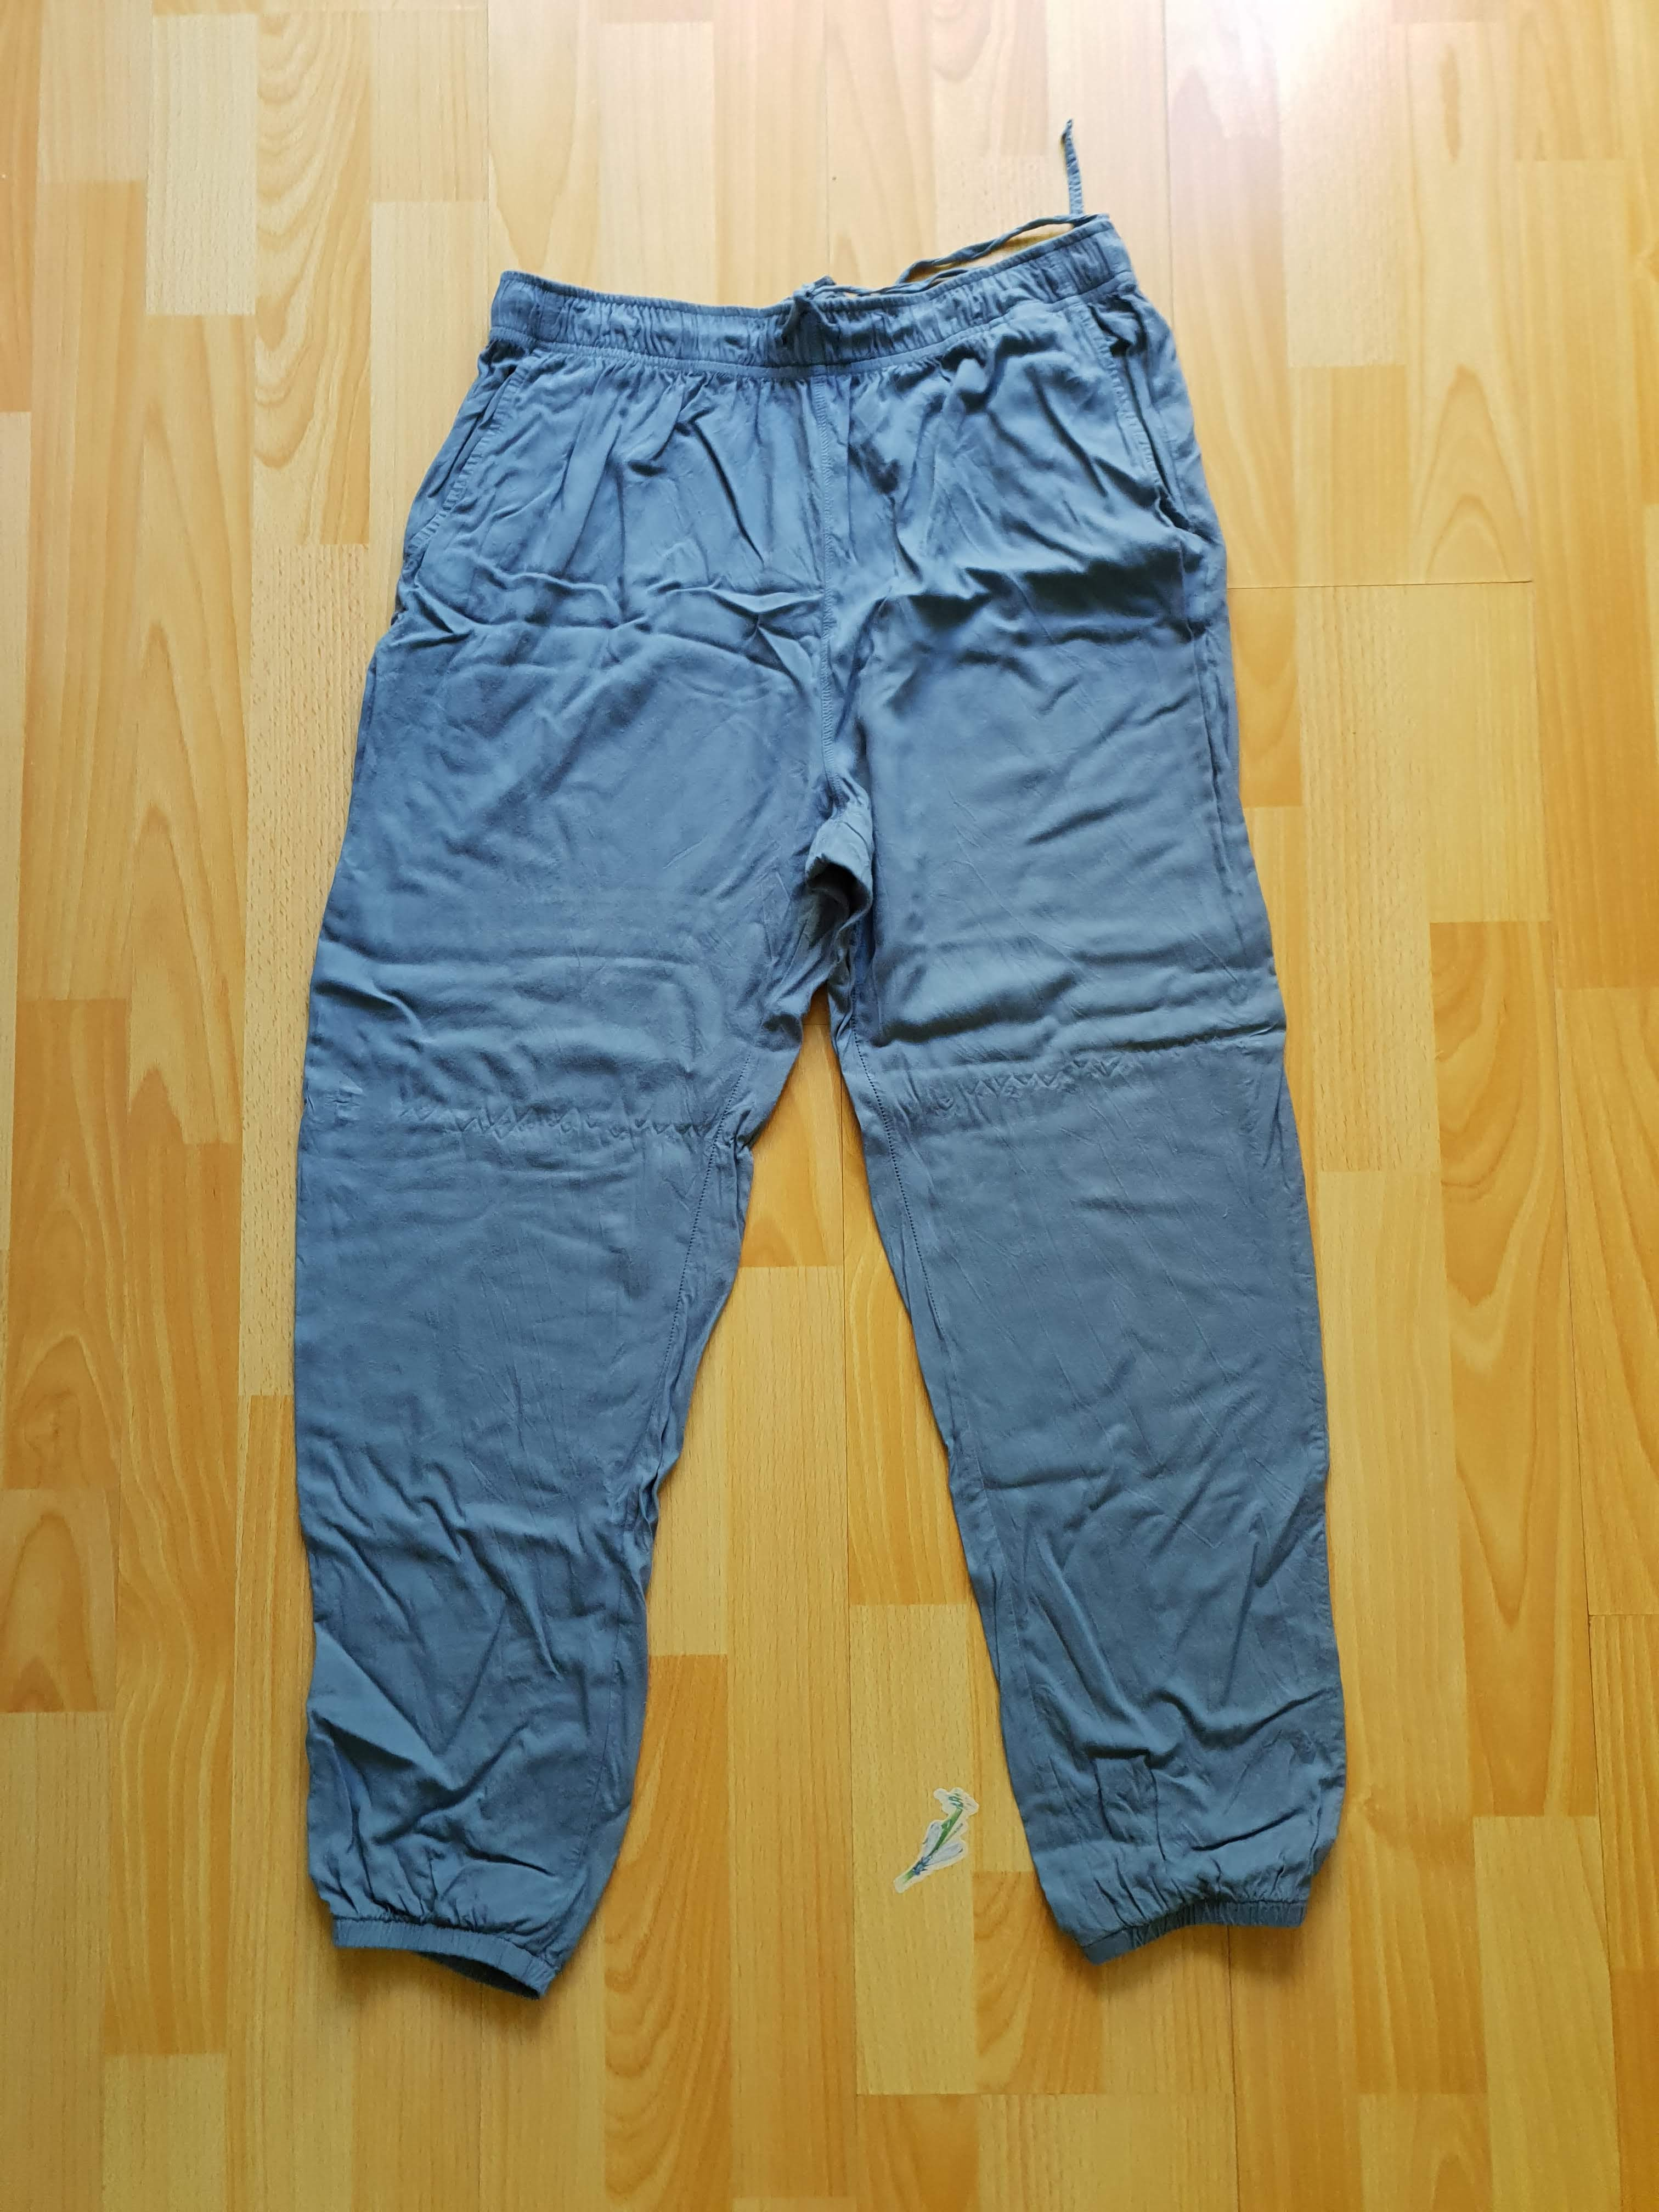clothes: (220, 214, 1345, 1977)
